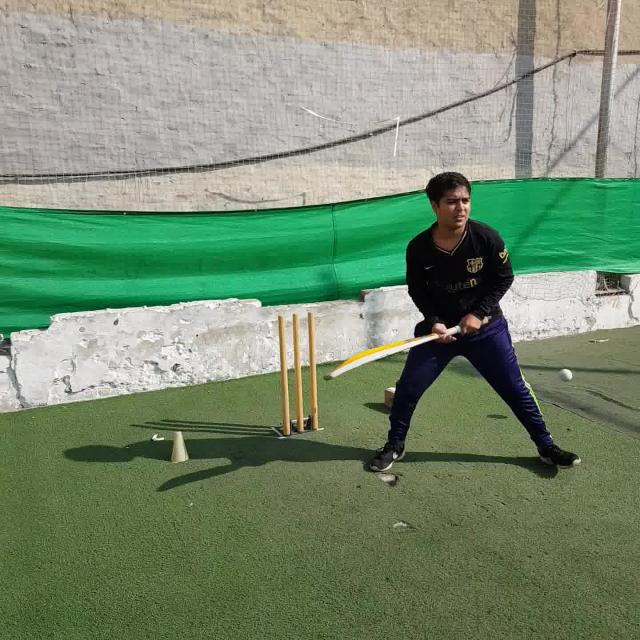ball: (560, 368, 573, 383)
bat: (324, 317, 490, 379)
